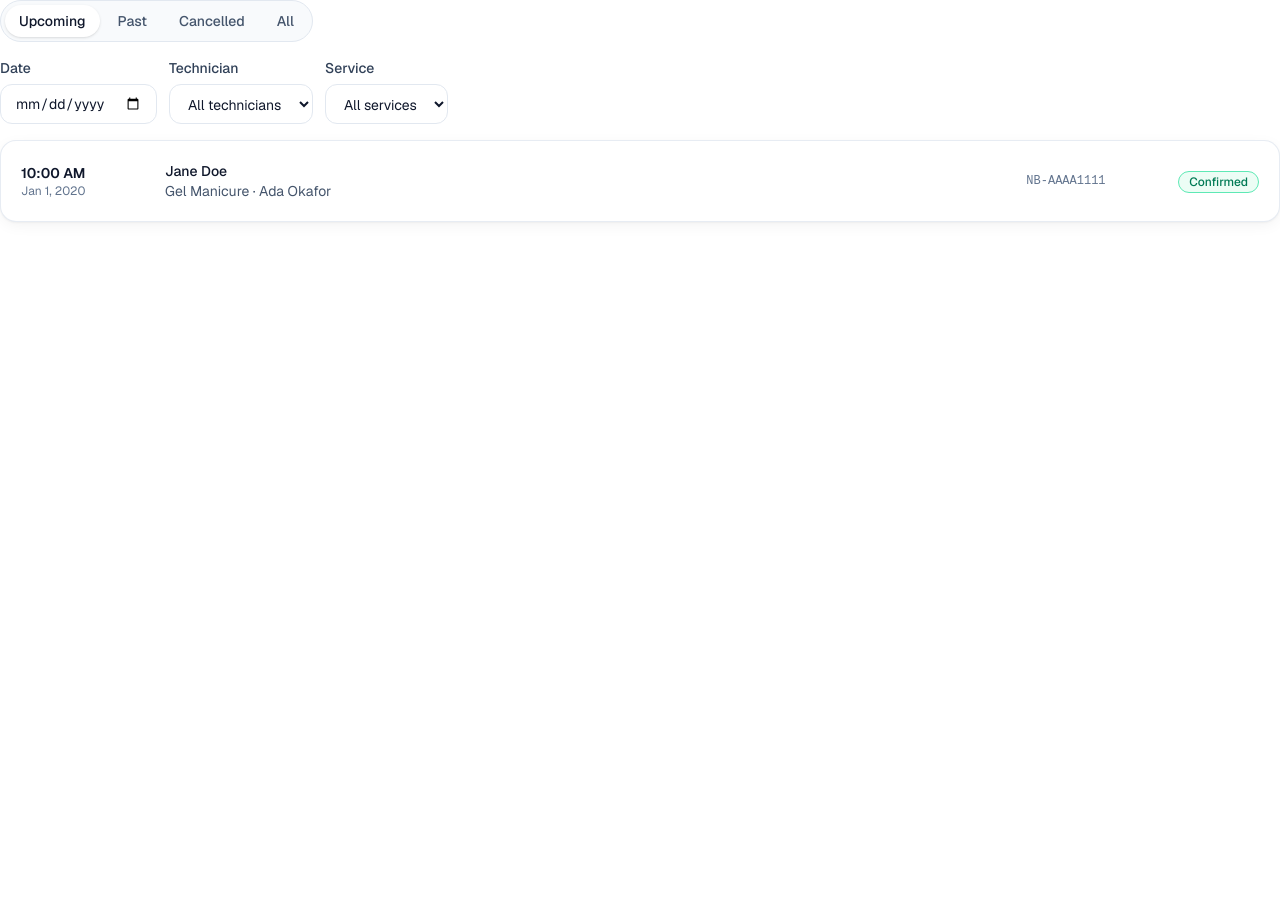
Test: S13-BE lifecycle — Complete › failure preserves CONFIRMED and the booking stays in Upcoming
Expected: the text "Jane Doe" is shown, [165,162,227,180]
Click the button with aria-label "view booking details for jane doe". click: point(53, 173)
box: [21,161,1154,201]
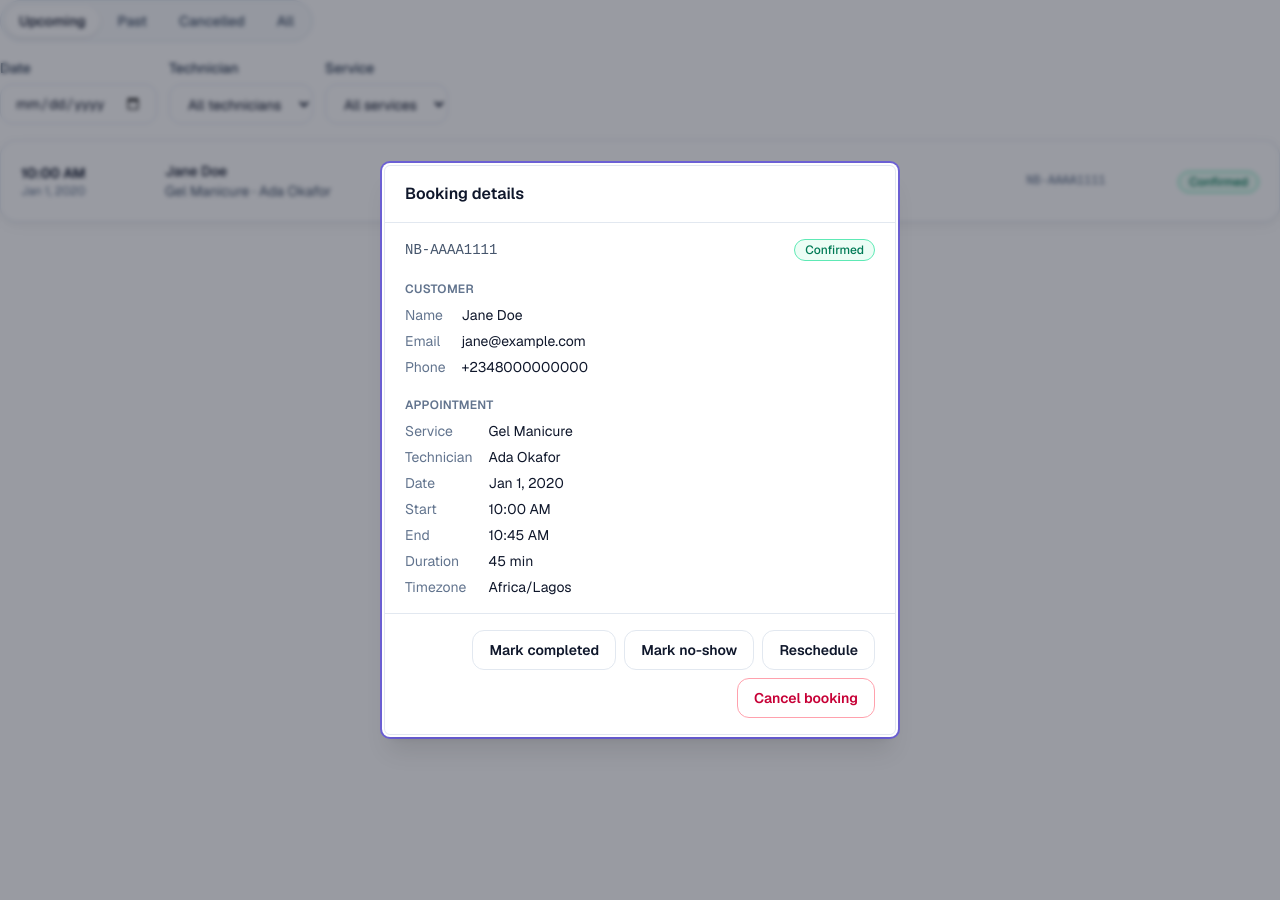
Click the button "Mark completed". click: point(544, 650)
box: [472,630,616,670]
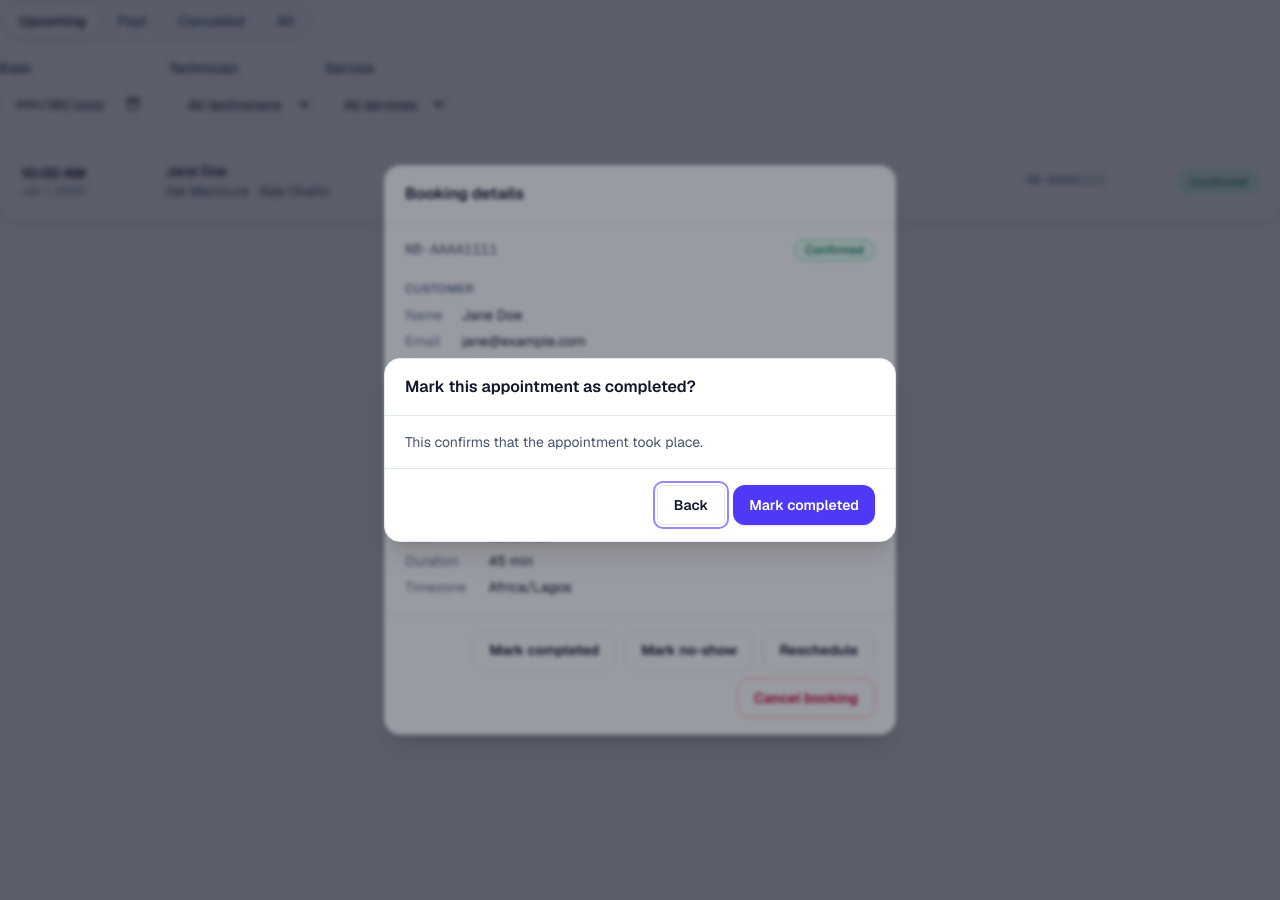
Click the button "Mark completed". click: point(804, 505)
box: [733,485,875,525]
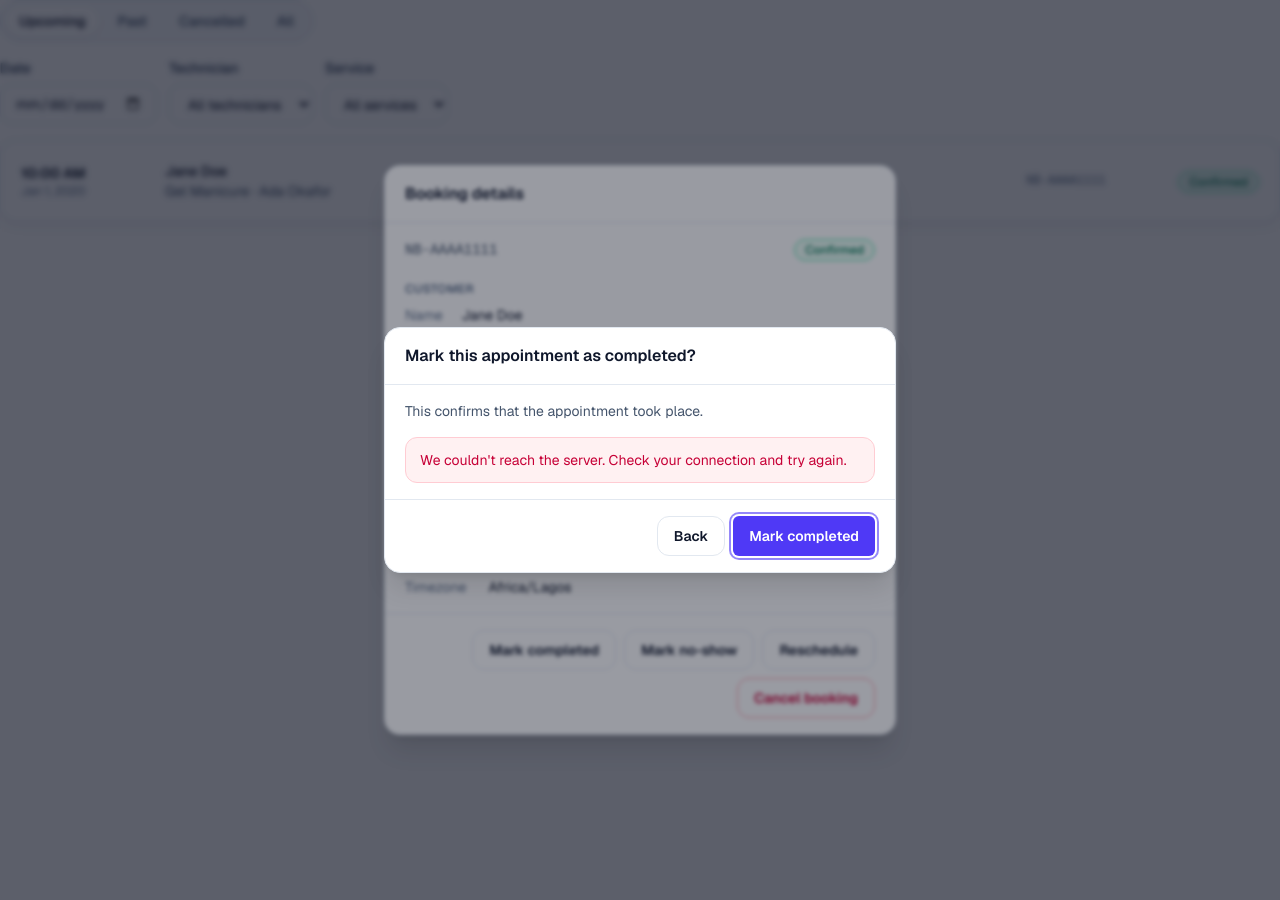
Now the text "Confirmed" is shown, box [794,239,875,261]
Now the message "We couldn't reach the server. Check your connection and try again." is shown, box [405,437,875,483]
